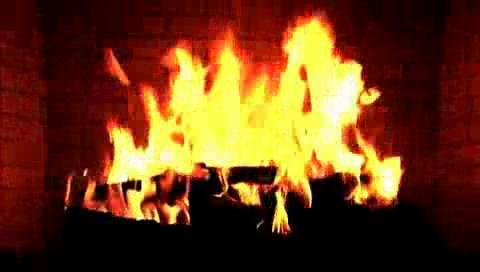fire: (58, 0, 451, 229)
